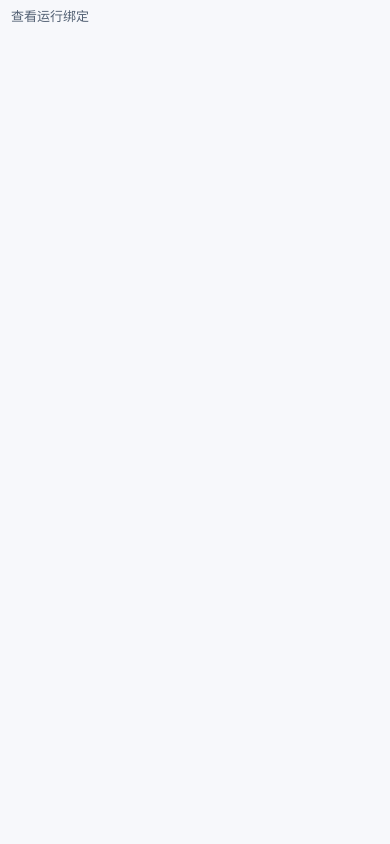
RunBindingButton › shows token usage in the modal
Step 1. Click the button with test id "run-binding-open" → coordinates (50, 16), box [0,0,100,32]
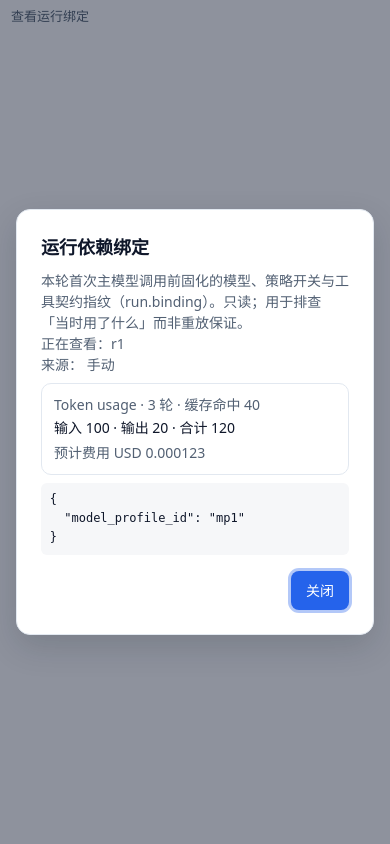
Check: the element with test id "run-binding-usage" is shown, box [41,383,349,475]
Check: the element with test id "run-binding-usage" shows "输入 100", box [54,418,235,437]
Check: the element with test id "run-binding-usage" shows "合计 120", box [54,418,235,437]
